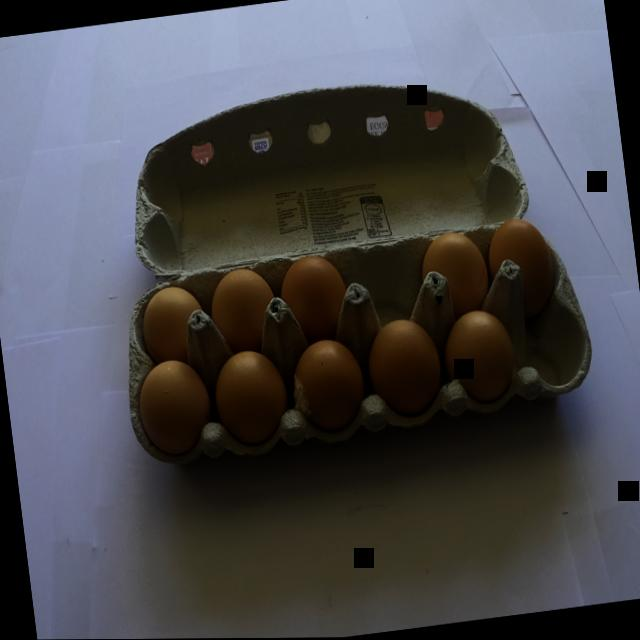Egg: (87, 47, 621, 520), (438, 300, 532, 416), (207, 332, 301, 445), (129, 354, 221, 455), (118, 271, 210, 364), (364, 310, 448, 407), (289, 323, 375, 417), (408, 216, 493, 311), (200, 261, 281, 350), (482, 213, 558, 301), (272, 257, 351, 341)
